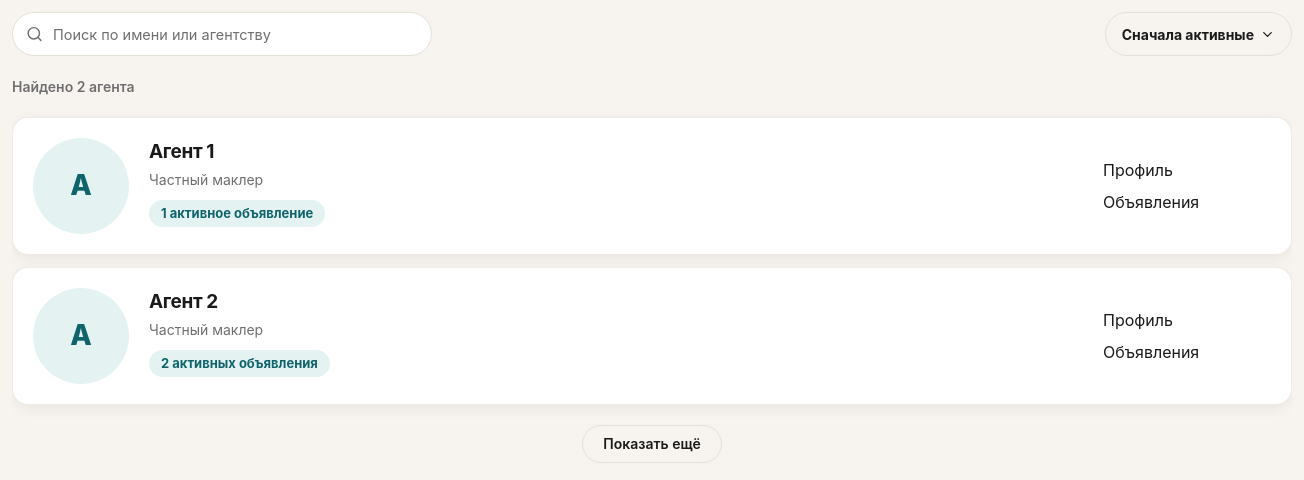
Test case: AgentsCatalog › при активном поиске кнопка «Показать ещё» скрыта
The image size is (1304, 480).
expect the button "Показать ещё" is shown: met, box [582,425,722,463]
In the search field: coordinates (222, 34) [12,12,432,56], type "Агент 1"
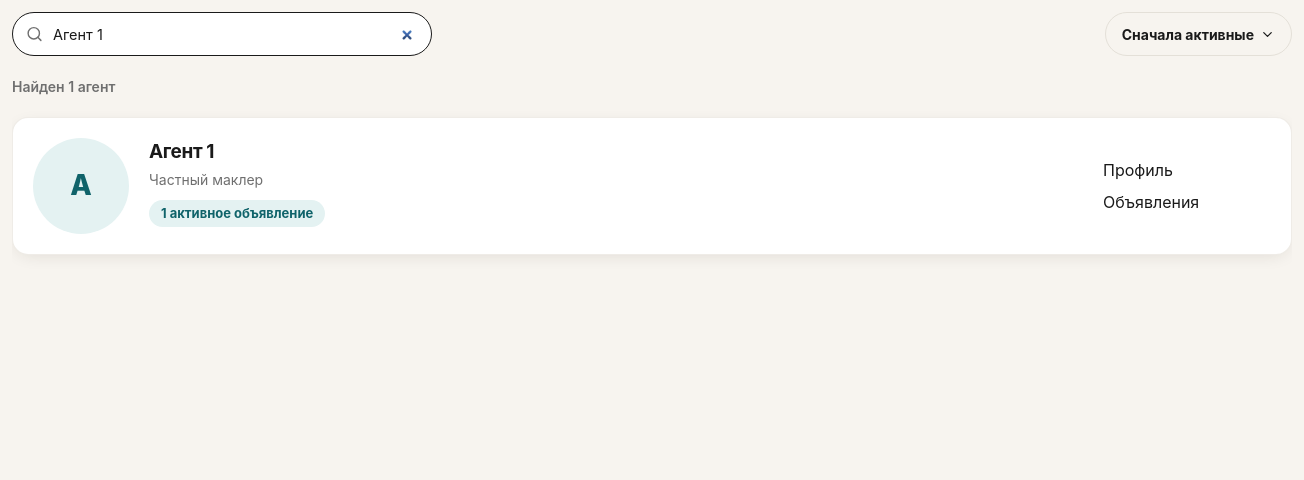
expect the button "Показать ещё" is gone: met
